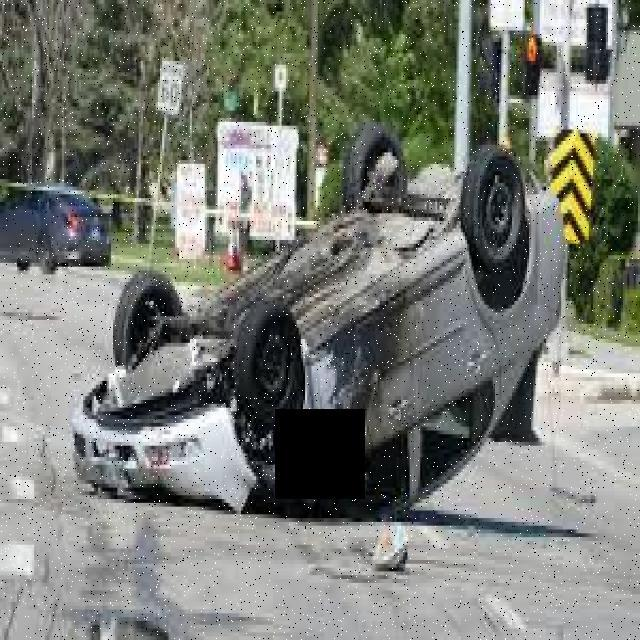severe: (65, 130, 573, 507)
